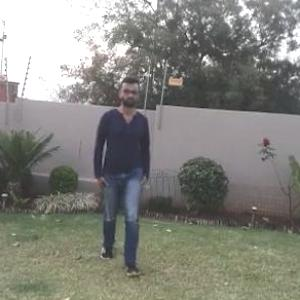follow: (100, 79, 150, 265)
